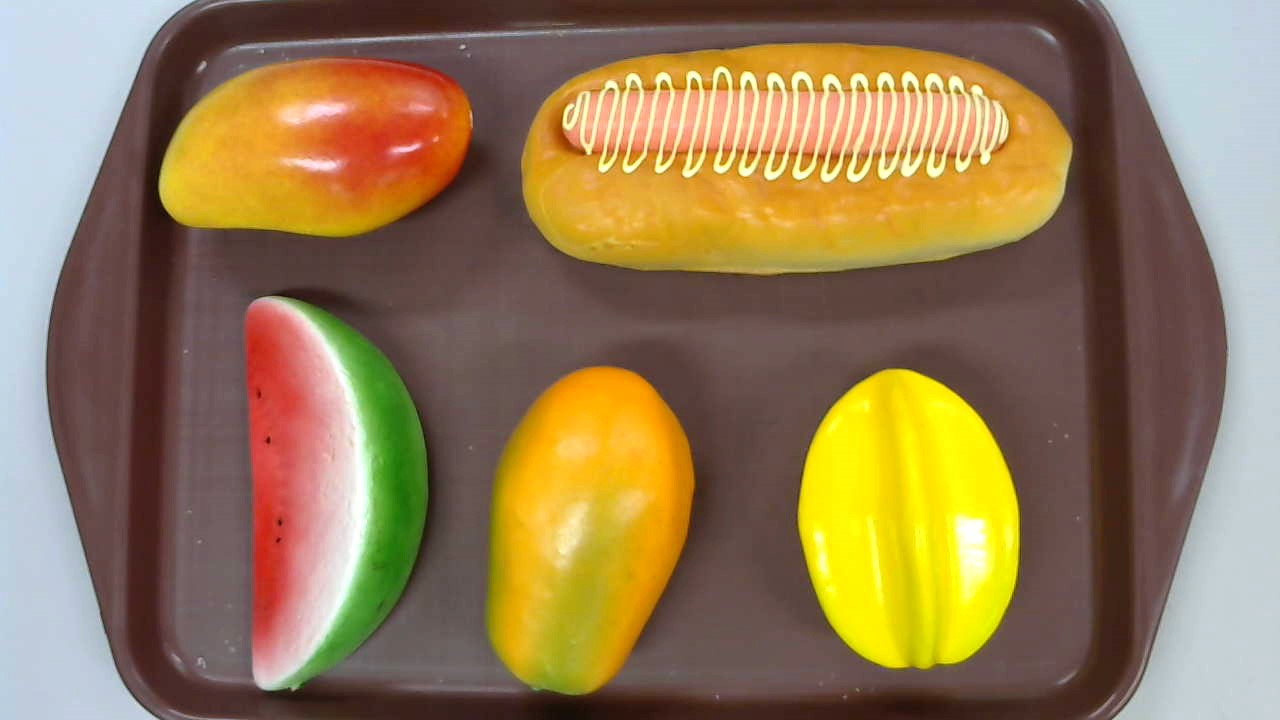hot dog: (519, 43, 1072, 274)
papya: (482, 365, 695, 695)
red mango: (157, 58, 474, 238)
star fruit: (797, 369, 1020, 670)
water melon: (244, 297, 428, 694)
